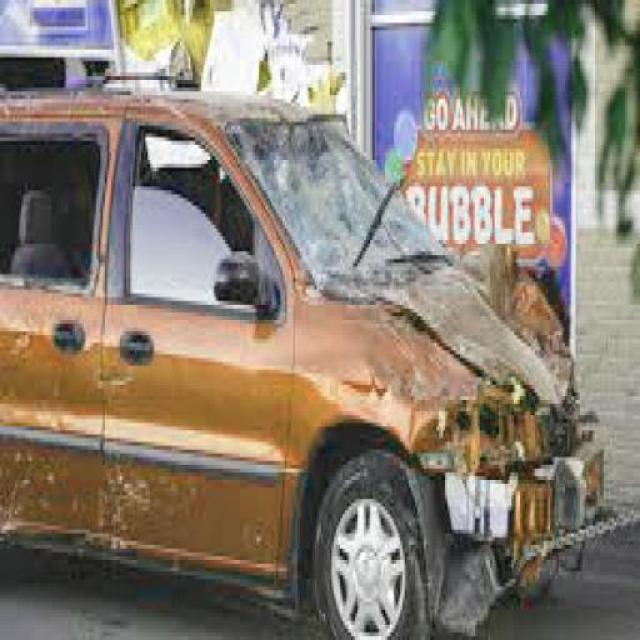car damage: (183, 93, 610, 640)
